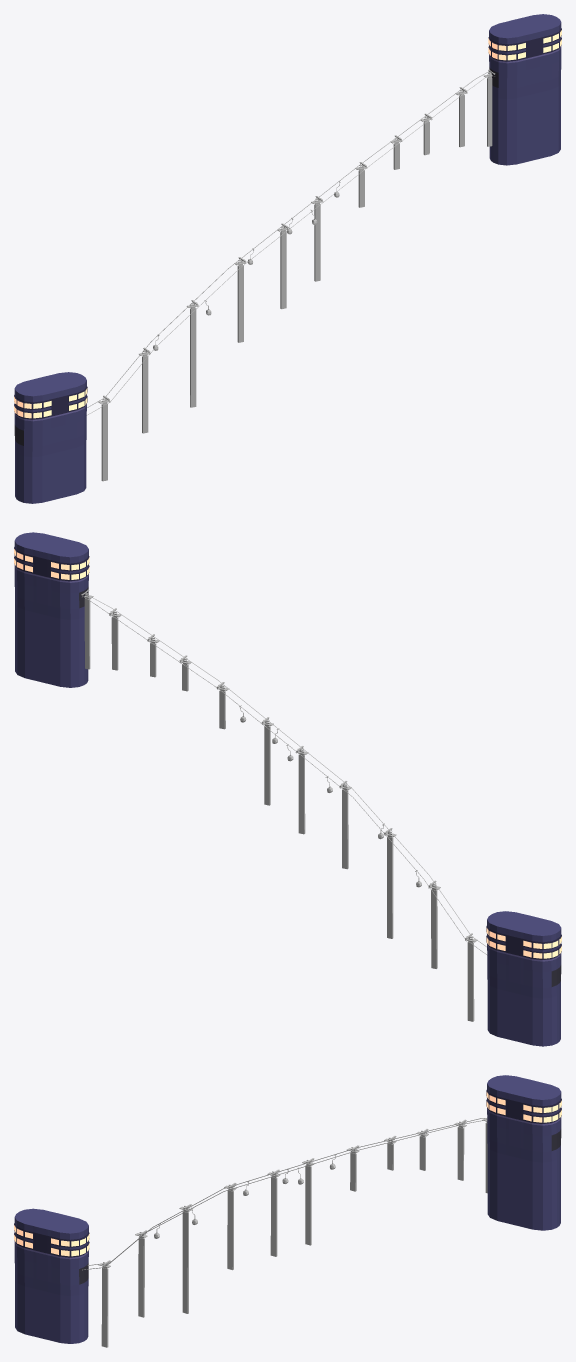
File: EXT_BigLift_UpandAway.fbx
3 renders of one model, top to bottom at view 1: azimuth 30°, elevation 25°; view 2: azimuth 150°, elevation 25°; view 3: azimuth 330°, elevation 25°, orthographic. The views are drawn at different scales.
Parts seen in each view (by area): view 1: Cube.4421, Cube.4420, NurbsCircle.001, PublicSkiLift.014, PublicSkiLift.002, PublicSkiLift.016, PublicSkiLift.015, PublicSkiLift.023; view 2: Cube.4421, Cube.4420, NurbsCircle.001, PublicSkiLift.014, PublicSkiLift.002, PublicSkiLift.016; view 3: Cube.4421, Cube.4420, NurbsCircle.001, PublicSkiLift.014, PublicSkiLift.002, PublicSkiLift.016, PublicSkiLift.023, PublicSkiLift.015, PublicSkiLift.017, PublicSkiLift.021.
Boxes of the visible parts, bbox=[...] form: Cube.4421: bbox=[488, 14, 561, 165]; Cube.4420: bbox=[14, 372, 87, 503]; NurbsCircle.001: bbox=[86, 71, 490, 415]; PublicSkiLift.014: bbox=[186, 300, 198, 407]; PublicSkiLift.002: bbox=[98, 395, 110, 481]; PublicSkiLift.016: bbox=[277, 223, 288, 309]; PublicSkiLift.015: bbox=[234, 257, 246, 342]; PublicSkiLift.023: bbox=[139, 347, 150, 433]; Cube.4421: bbox=[14, 532, 89, 687]; Cube.4420: bbox=[486, 911, 561, 1046]; NurbsCircle.001: bbox=[82, 594, 486, 954]; PublicSkiLift.014: bbox=[384, 828, 396, 938]; PublicSkiLift.002: bbox=[465, 933, 477, 1021]; PublicSkiLift.016: bbox=[295, 746, 308, 834]; Cube.4421: bbox=[486, 1075, 561, 1230]; Cube.4420: bbox=[14, 1208, 89, 1343]; NurbsCircle.001: bbox=[82, 1118, 486, 1270]; PublicSkiLift.014: bbox=[179, 1204, 191, 1313]; PublicSkiLift.002: bbox=[98, 1260, 110, 1347]; PublicSkiLift.016: bbox=[267, 1169, 279, 1256]; PublicSkiLift.023: bbox=[135, 1230, 147, 1317]; PublicSkiLift.015: bbox=[224, 1183, 236, 1270]; PublicSkiLift.017: bbox=[302, 1158, 314, 1245]; PublicSkiLift.021: bbox=[454, 1119, 466, 1180].
Size of the model in its own units: 183011 by 117070 by 15553.
